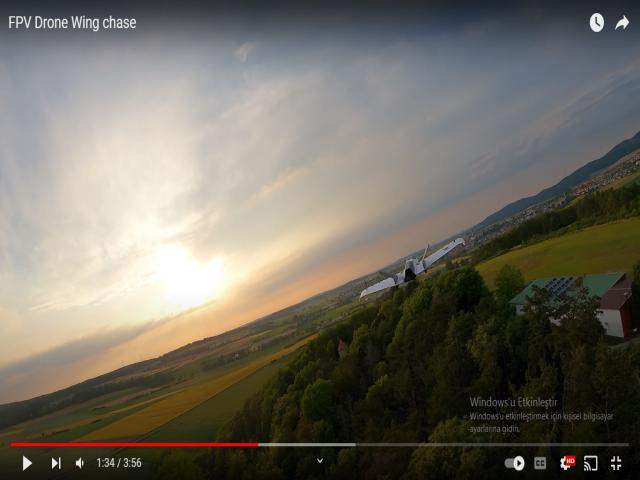plane: (360, 238, 463, 298)
